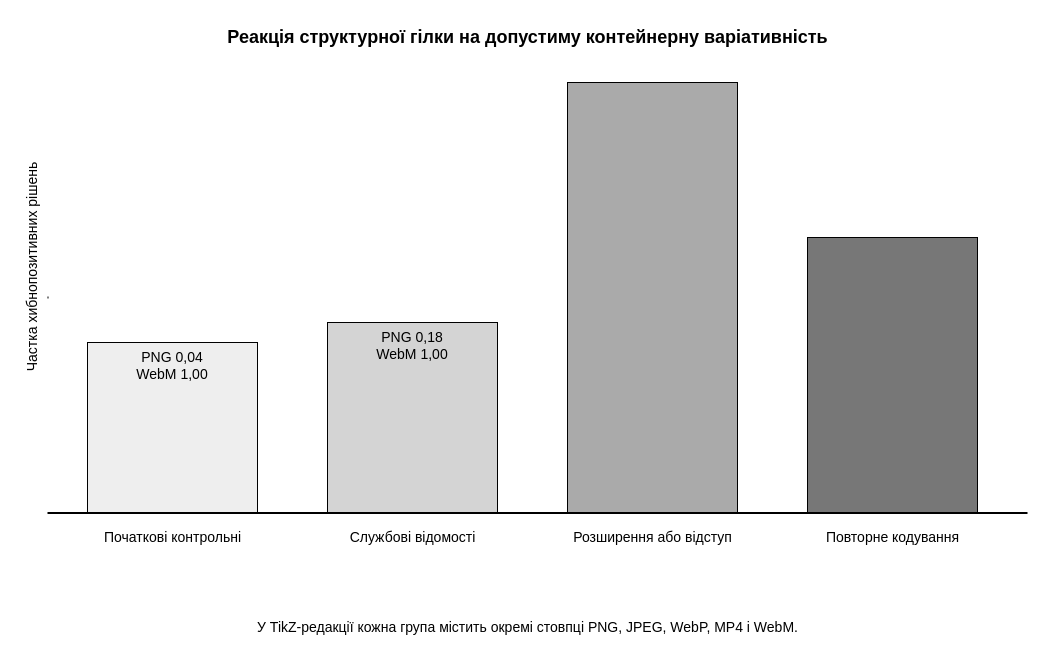
Some shapes in this 1045 by 669 pixel diagram are drawn without their labels. Each missing label, with the centre of its shape:
"JPEG 1,00 WebM 1,00" belongs at [892,374].
"PNG, JPEG, WebP, MP4, WebM: 1,00" belongs at [652,297].
